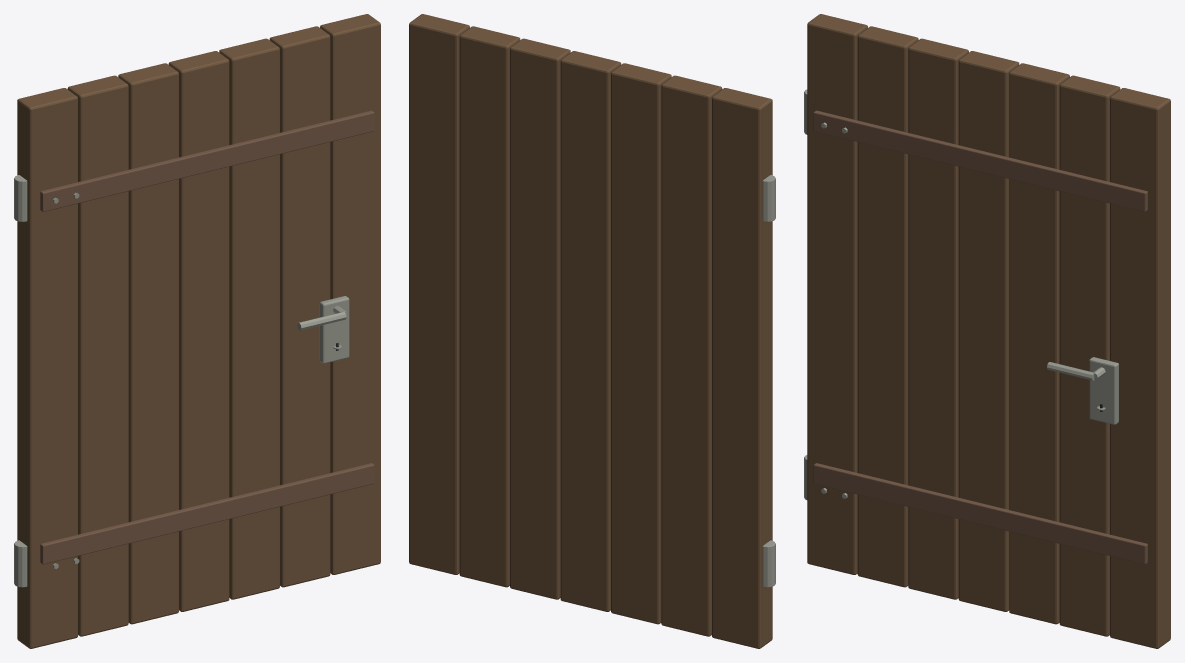
The model's file is door_wood.glb.
The picture shows the model from 3 angles, left to right: view 1: azimuth 30°, elevation 25°; view 2: azimuth 150°, elevation 25°; view 3: azimuth 330°, elevation 25°; orthographic projection.
Parts seen in each view (by area): view 1: door_wood; view 2: door_wood; view 3: door_wood.
Part boxes in pixels (x1,y1,x2,y2): door_wood: (14, 14, 380, 648); door_wood: (409, 14, 775, 648); door_wood: (804, 14, 1170, 648).
Size of the model in its own units: 1.75 by 2.52 by 0.2455.
